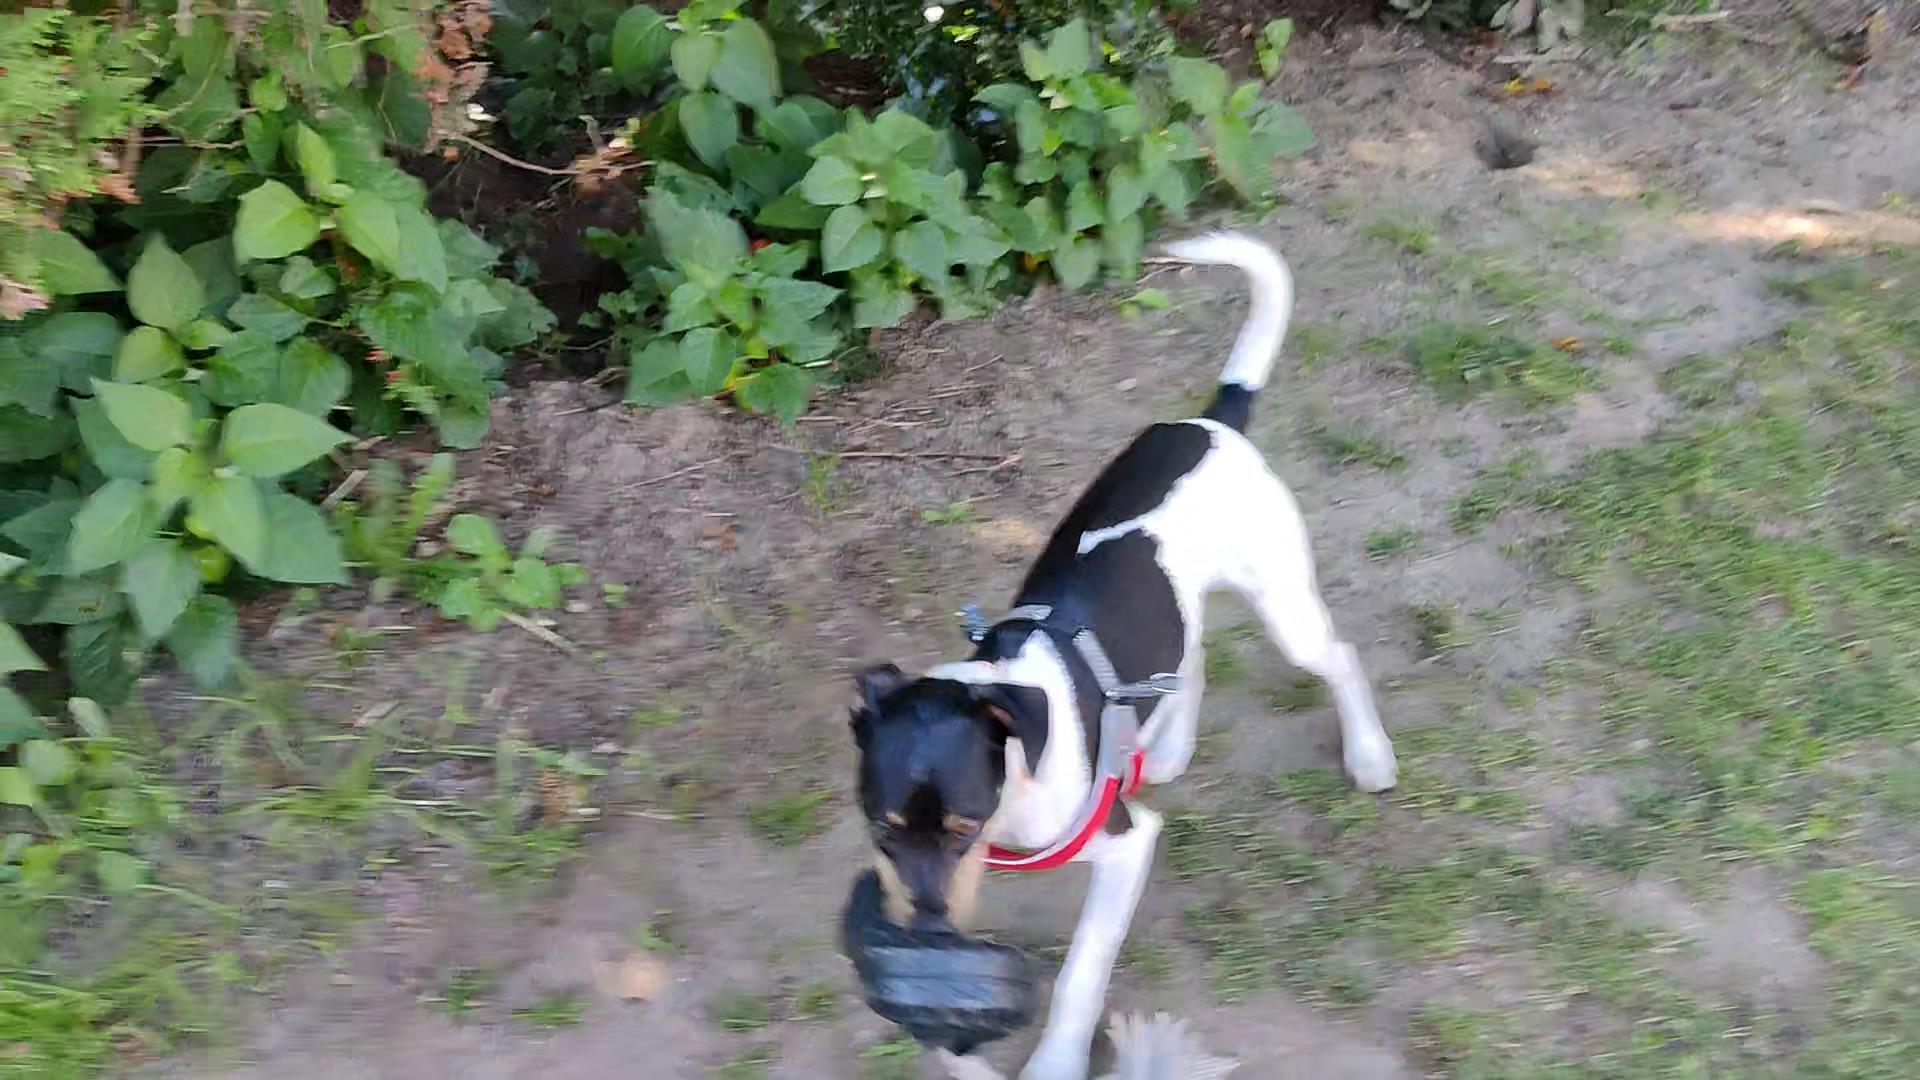Dog: (807, 229, 1418, 1079)
